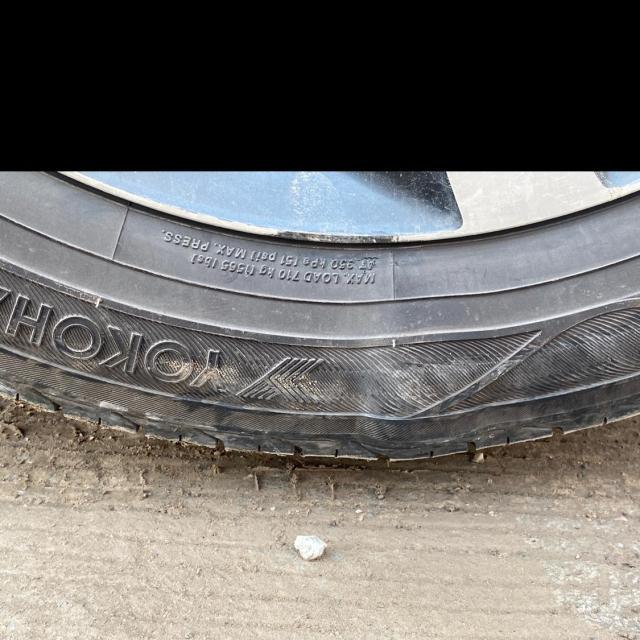Bulge: (350, 333, 513, 455)
